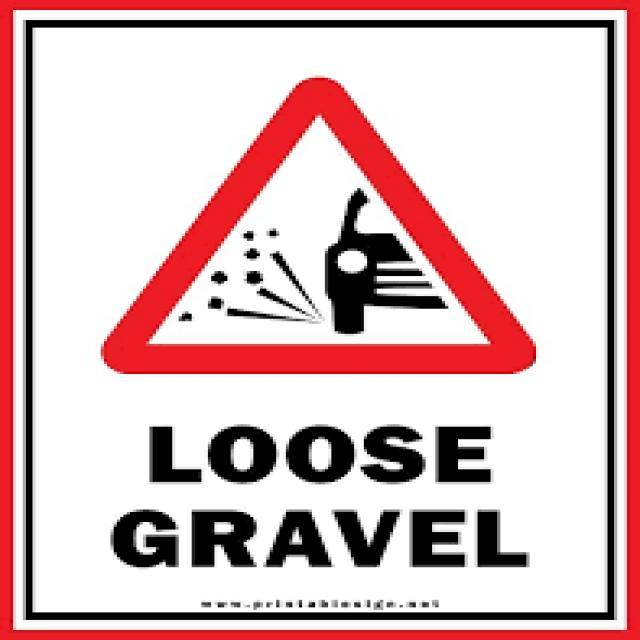loose gravel: (97, 70, 543, 382)
